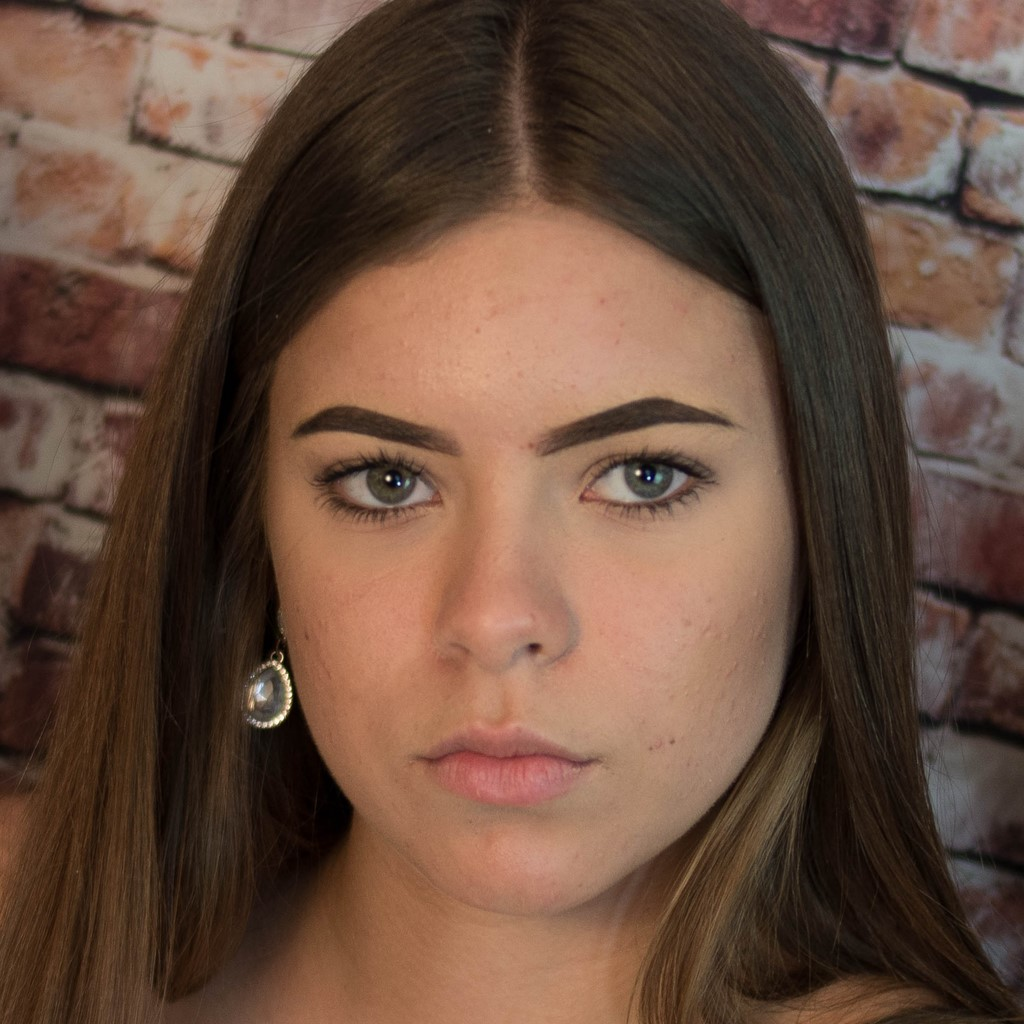sin_mascara: (226, 141, 799, 905)
